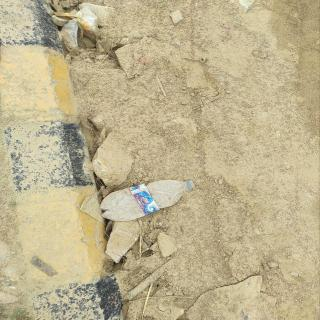Plastic-bottle: (98, 178, 198, 224)
